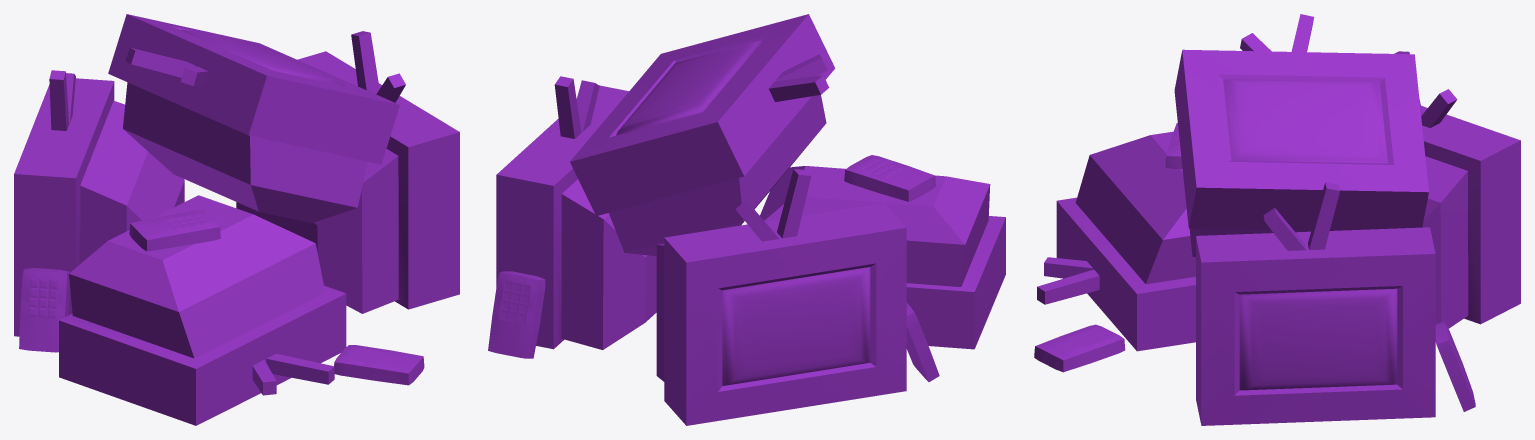
3 views of the same model, side by side, from view 1: azimuth 30°, elevation 25°; view 2: azimuth 150°, elevation 25°; view 3: azimuth 270°, elevation 25° (orthographic).
Visible parts, largest first — view 1: tv; view 2: tv; view 3: tv.
Boxes of the visible parts, x1,y1,x2,y2 form: tv: (14, 14, 459, 425); tv: (488, 14, 1005, 425); tv: (1034, 14, 1520, 425).
Size of the model in its own units: 370 by 250 by 396.
